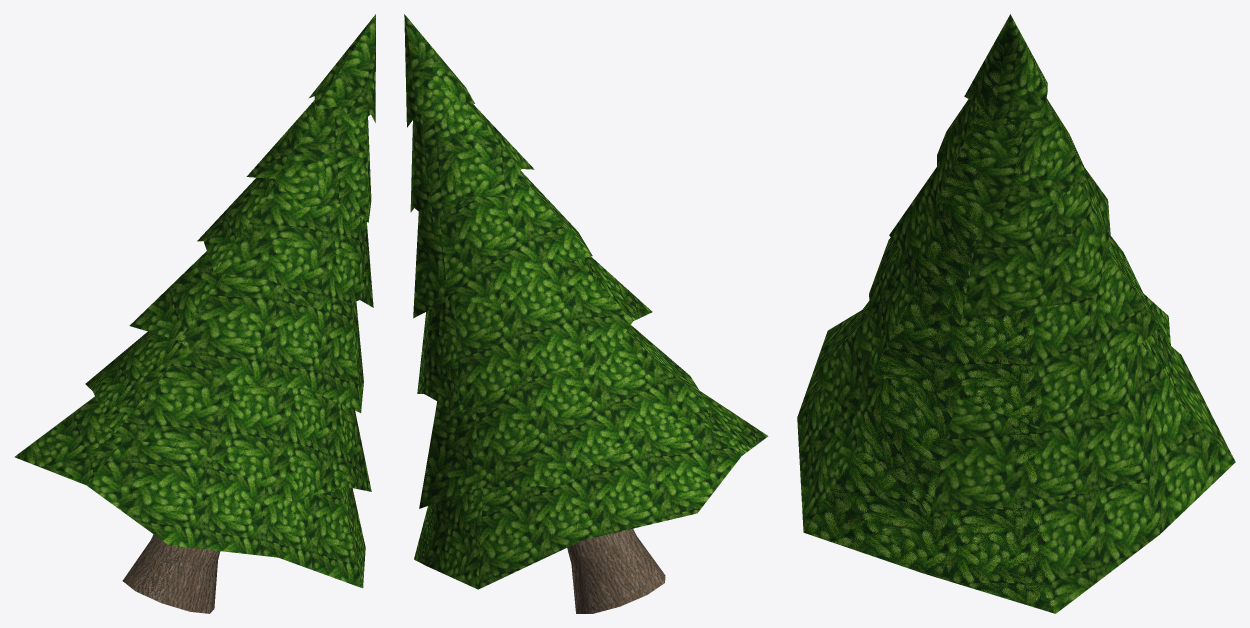
File: treefalls3.obj
3 views of the same model, side by side, from view 1: azimuth 30°, elevation 25°; view 2: azimuth 150°, elevation 25°; view 3: azimuth 270°, elevation 25° (orthographic). The views are drawn at different scales.
Visible parts, largest first — view 1: Cylinder.002_Cylinder.013, Cylinder.001_Cylinder.012; view 2: Cylinder.002_Cylinder.013, Cylinder.001_Cylinder.012; view 3: Cylinder.002_Cylinder.013.
Part boxes in pixels (left/top/right/bottom): Cylinder.002_Cylinder.013: left=14, top=14, right=375, bottom=588; Cylinder.001_Cylinder.012: left=122, top=534, right=220, bottom=613; Cylinder.002_Cylinder.013: left=404, top=14, right=768, bottom=589; Cylinder.001_Cylinder.012: left=567, top=528, right=665, bottom=613; Cylinder.002_Cylinder.013: left=797, top=14, right=1235, bottom=613.
Size of the model in its own units: 2.3 by 3.67 by 2.26.
